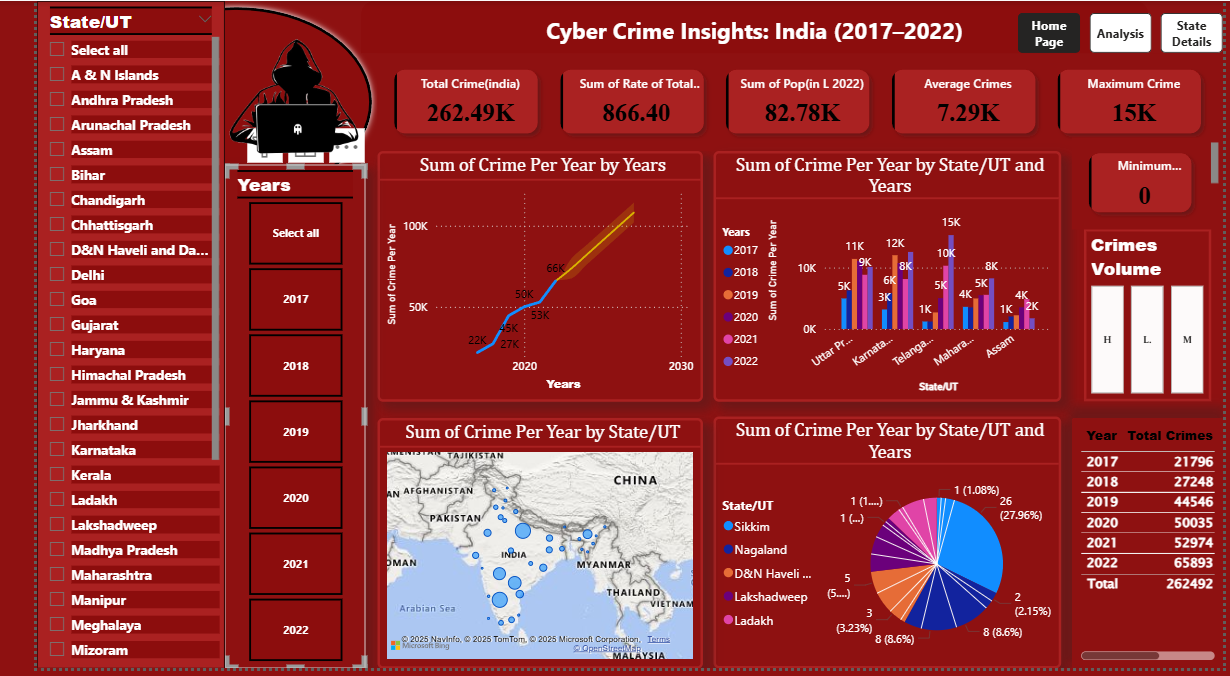

This screenshot's page, from the dashboard's own definition file:
{"tool":"powerbi","page":{"name":"Home Page","canvas":[1280,720],"ordinal":0},"visuals":[{"type":"shape","box":[62.3,0,306.6,218.1],"z":0},{"type":"lineChart","fields":{"Category":["2017 to 2022.Years"],"Y":["Sum(2017 to 2022.Crime Per Year)"]},"box":[367.6,161.9,351.4,270.4],"z":1000},{"type":"slicer","fields":{"Values":["2017 to 2022.Years"]},"box":[202.4,176.5,152.2,544.1],"z":2000},{"type":"slicer","fields":{"Values":["2017 to 2022.State/UT"]},"box":[0,0,202.4,720.6],"z":3000},{"type":"image","box":[162.3,0,231.2,206.6],"z":4000},{"type":"shape","box":[349.8,0,850.1,56.7],"z":5000},{"type":"cardVisual","fields":{"Data":["2017 to 2022.Total Crime(india)","Sum(2017 to 2022.Rate of Total Cyber Crimes (2022))","Sum(2017 to 2022.Mid-Year Projected Population (in Lakhs))","2017 to 2022.Average Crimes(Per y)","2017 to 2022.Maximum Crime"]},"box":[367.6,56.7,913.2,105.2],"z":6000},{"type":"clusteredColumnChart","fields":{"Y":["Sum(2017 to 2022.Crime Per Year)"],"Category":["2017 to 2022.State/UT"],"Series":["2017 to 2022.Years"]},"box":[730.3,161.9,375.7,270.4],"z":7000},{"type":"advancedSlicerVisual","fields":{"Values":["2017 to 2022 Crime volume.Crimes Volume"]},"box":[1130.2,246.1,137.6,186.2],"z":8000},{"type":"pieChart","fields":{"Y":["Sum(2017 to 2022.Crime Per Year)"],"Series":["2017 to 2022.Years"],"Category":["2017 to 2022.State/UT"]},"box":[730.3,448.5,375.7,272],"z":9000},{"type":"cardVisual","fields":{"Data":["2017 to 2022.Minimum Crime","DateTable.YoY Growth %"]},"box":[1117.3,147.3,163.5,98.8],"z":10000},{"type":"tableEx","fields":{"Values":["DateTable.Year","DateTable.Total Crimes","DateTable.YoY Change"]},"box":[1117.3,450.1,163.5,270.4],"z":11000},{"type":"map","fields":{"Category":["2017 to 2022.State/UT"],"Size":["Sum(2017 to 2022.Crime Per Year)"]},"box":[367.6,450.1,351.4,270.4],"z":12000},{"type":"pageNavigator","box":[1059,13,221.8,43.7],"z":13000}]}

Visuals, with their boxes in screenshot pixels (x1, y1, x2, y2), scaled from the page's 1280x720 canvas onto the 1230x676 screenshot:
shape: box(60, 0, 354, 205)
lineChart - 2017 to 2022.Years x Sum(2017 to 2022.Crime Per Year): box(353, 152, 691, 406)
slicer - 2017 to 2022.Years: box(194, 166, 341, 675)
slicer - 2017 to 2022.State/UT: box(0, 0, 194, 675)
image: box(156, 0, 378, 194)
shape: box(336, 0, 1153, 53)
cardVisual - 2017 to 2022.Total Crime(india) x Sum(2017 to 2022.Rate of Total Cyber Crimes (2022)): box(353, 53, 1229, 152)
clusteredColumnChart - Sum(2017 to 2022.Crime Per Year) x 2017 to 2022.State/UT: box(702, 152, 1063, 406)
advancedSlicerVisual - 2017 to 2022 Crime volume.Crimes Volume: box(1086, 231, 1218, 406)
pieChart - Sum(2017 to 2022.Crime Per Year) x 2017 to 2022.Years: box(702, 421, 1063, 675)
cardVisual - 2017 to 2022.Minimum Crime x DateTable.YoY Growth %: box(1074, 138, 1229, 231)
tableEx - DateTable.Year x DateTable.Total Crimes: box(1074, 423, 1229, 675)
map - 2017 to 2022.State/UT x Sum(2017 to 2022.Crime Per Year): box(353, 423, 691, 675)
pageNavigator: box(1018, 12, 1229, 53)
